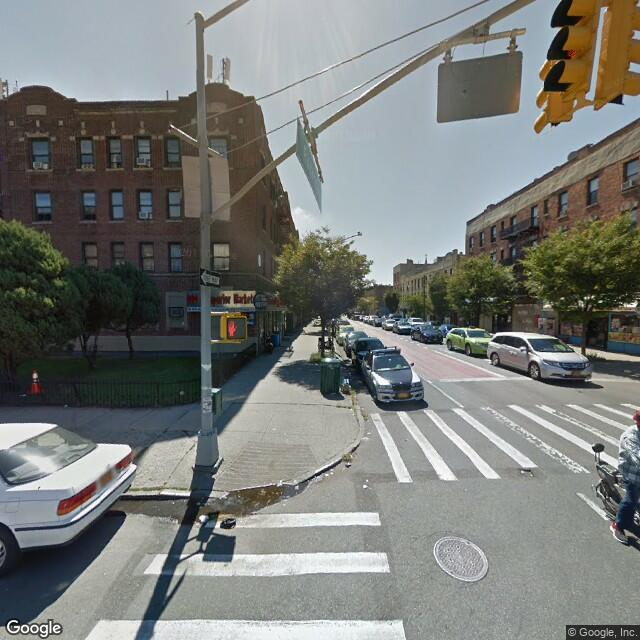litter: (58, 401, 71, 408), (344, 456, 353, 466), (197, 515, 212, 520), (274, 480, 283, 488), (292, 483, 305, 488), (362, 480, 367, 491)
